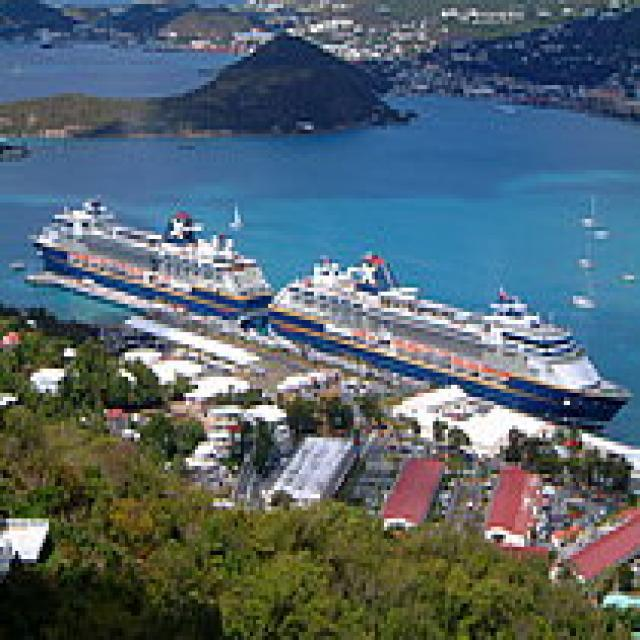Ship: (263, 232, 640, 442), (26, 183, 279, 333)
